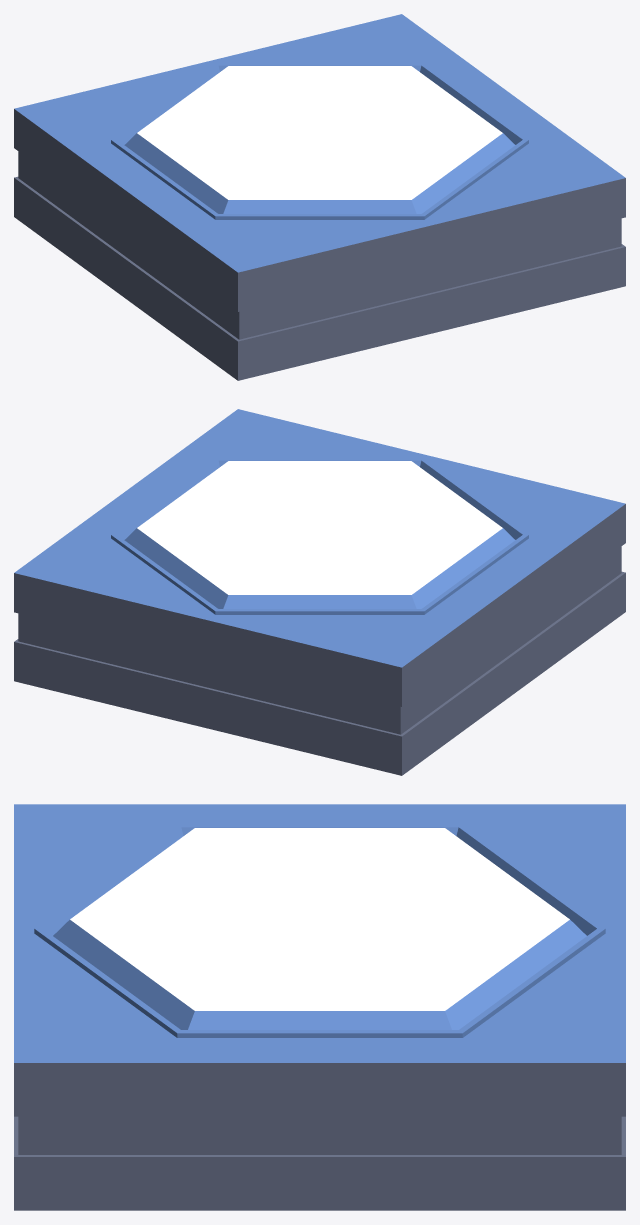
File: side_floor.fbx
The picture shows the model from 3 angles, top to bottom: view 1: azimuth 30°, elevation 25°; view 2: azimuth 150°, elevation 25°; view 3: azimuth 270°, elevation 25°; orthographic projection. The views are drawn at different scales.
Visible parts, largest first — view 1: side_floor_low; view 2: side_floor_low; view 3: side_floor_low.
Boxes of the visible parts, x1,y1,x2,y2 form: side_floor_low: (14,14,625,380); side_floor_low: (14,409,625,775); side_floor_low: (14,804,625,1210).
Size of the model in its own units: 150 by 44.4 by 150.
